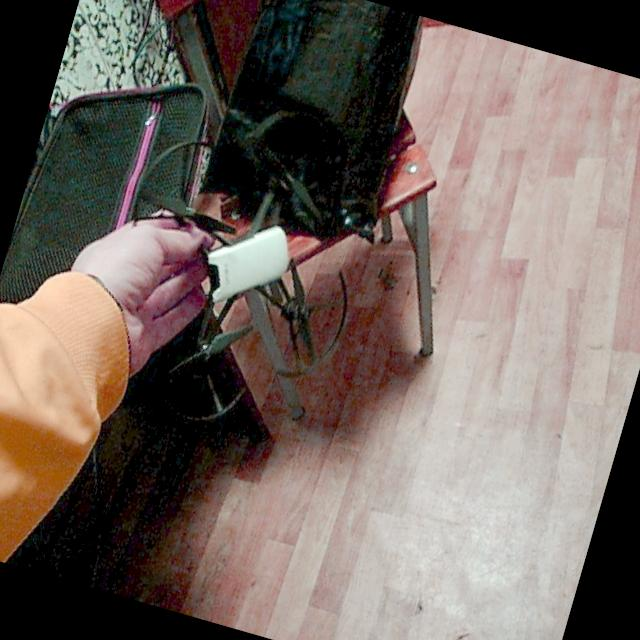drone: (86, 108, 400, 442)
